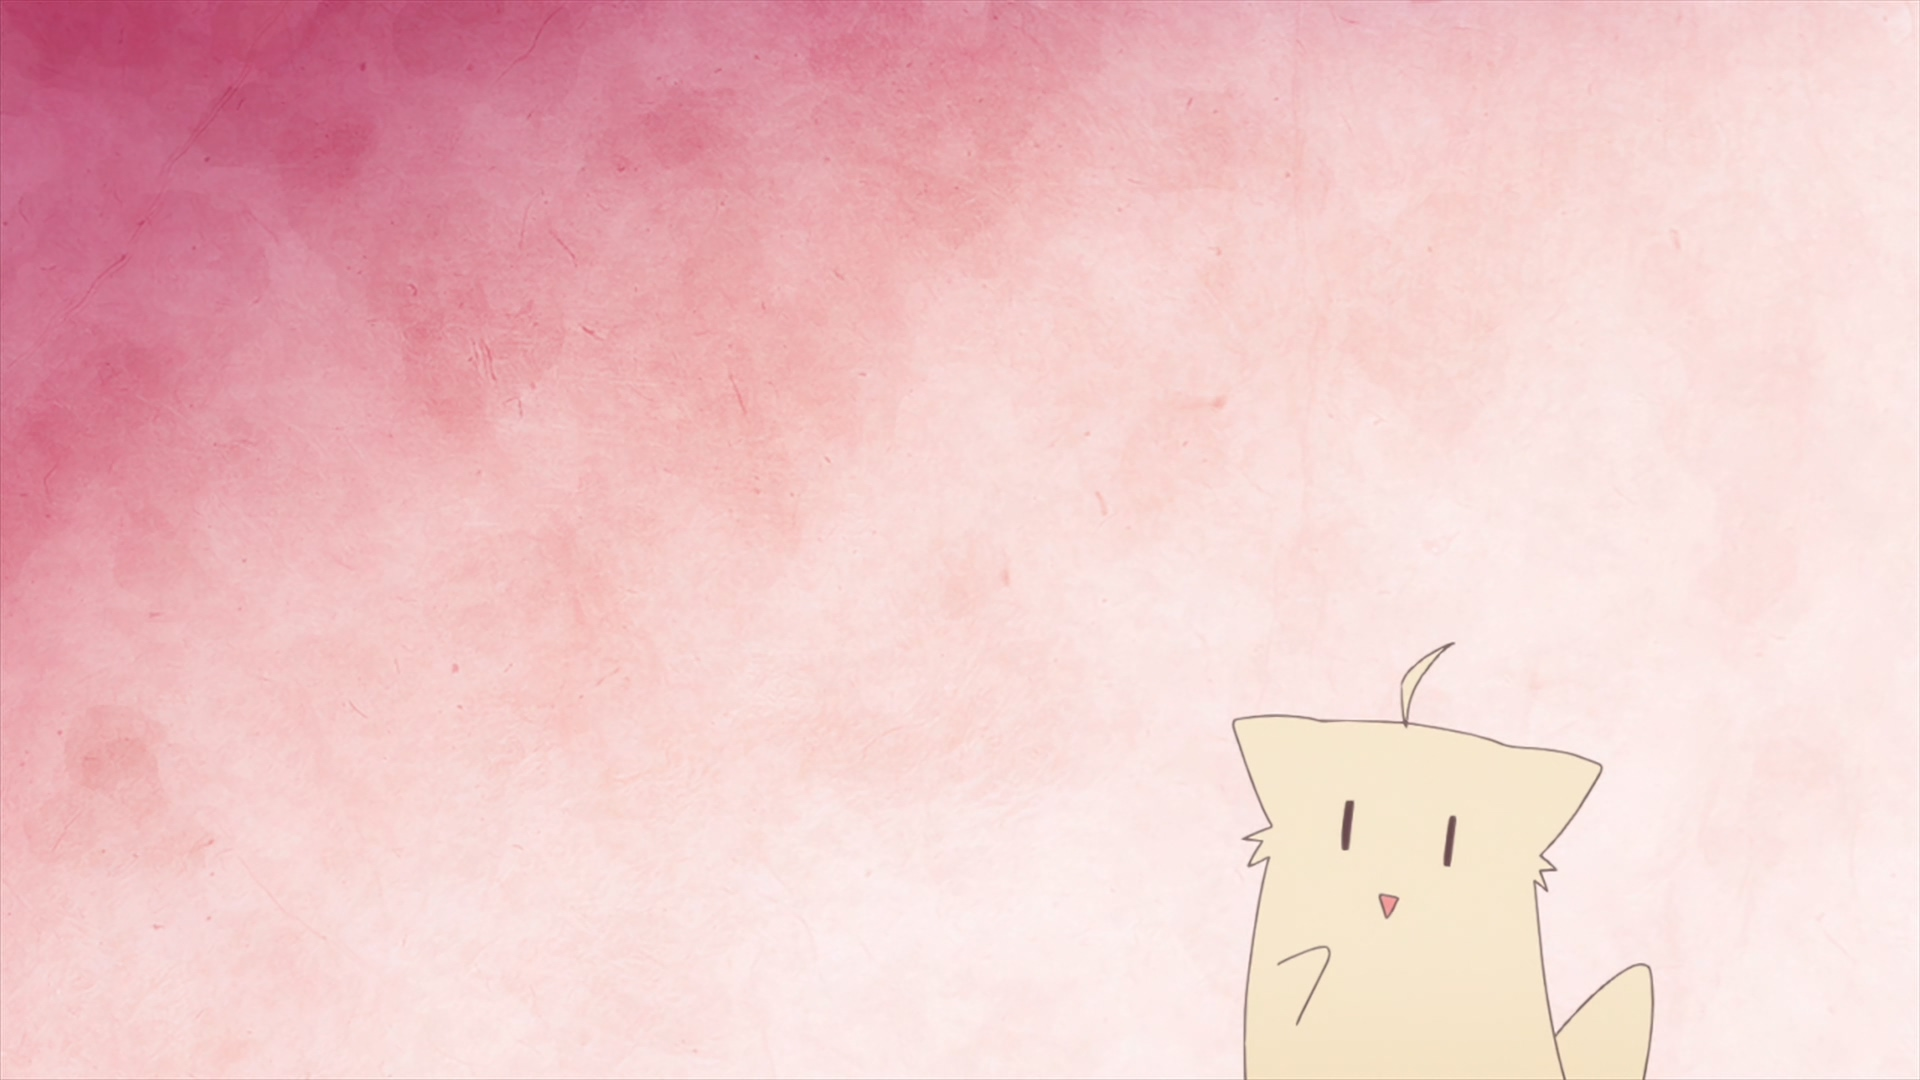柚: (1233, 642, 1654, 1080)
